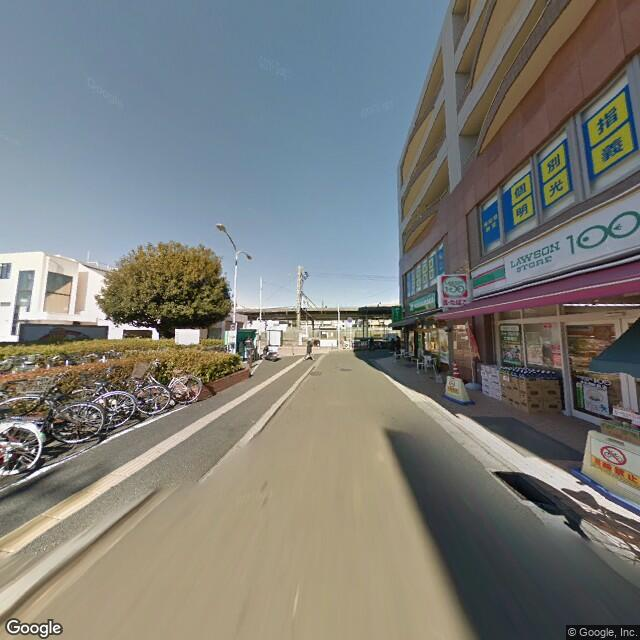lawson: (470, 184, 638, 307), (441, 271, 466, 306)
